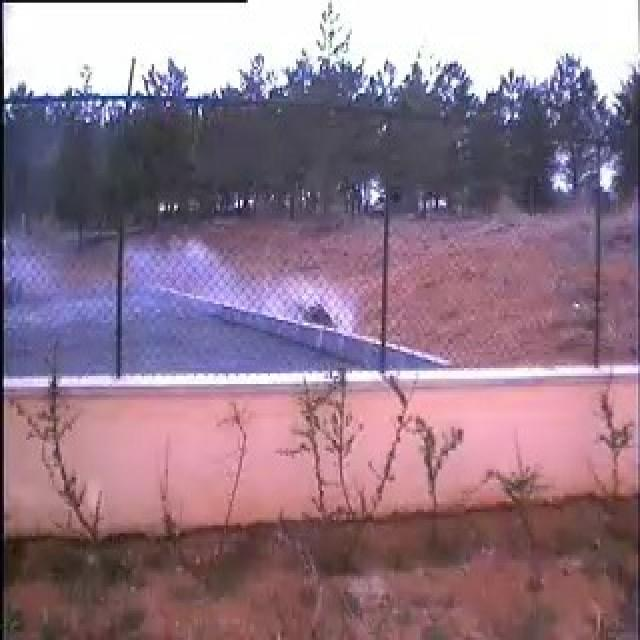smoke: (60, 235, 357, 372)
